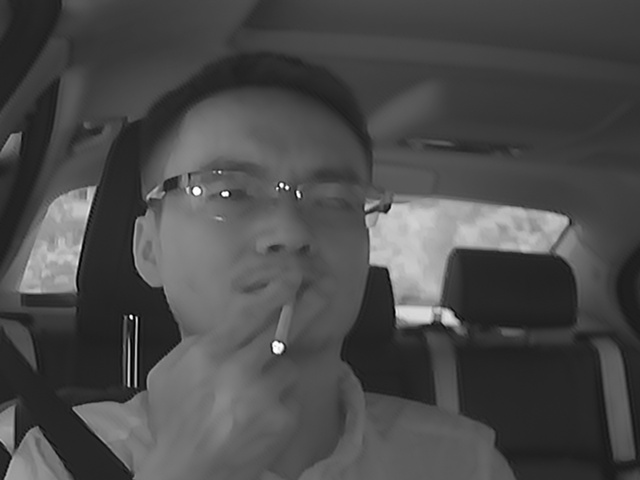hand: (202, 274, 334, 441)
